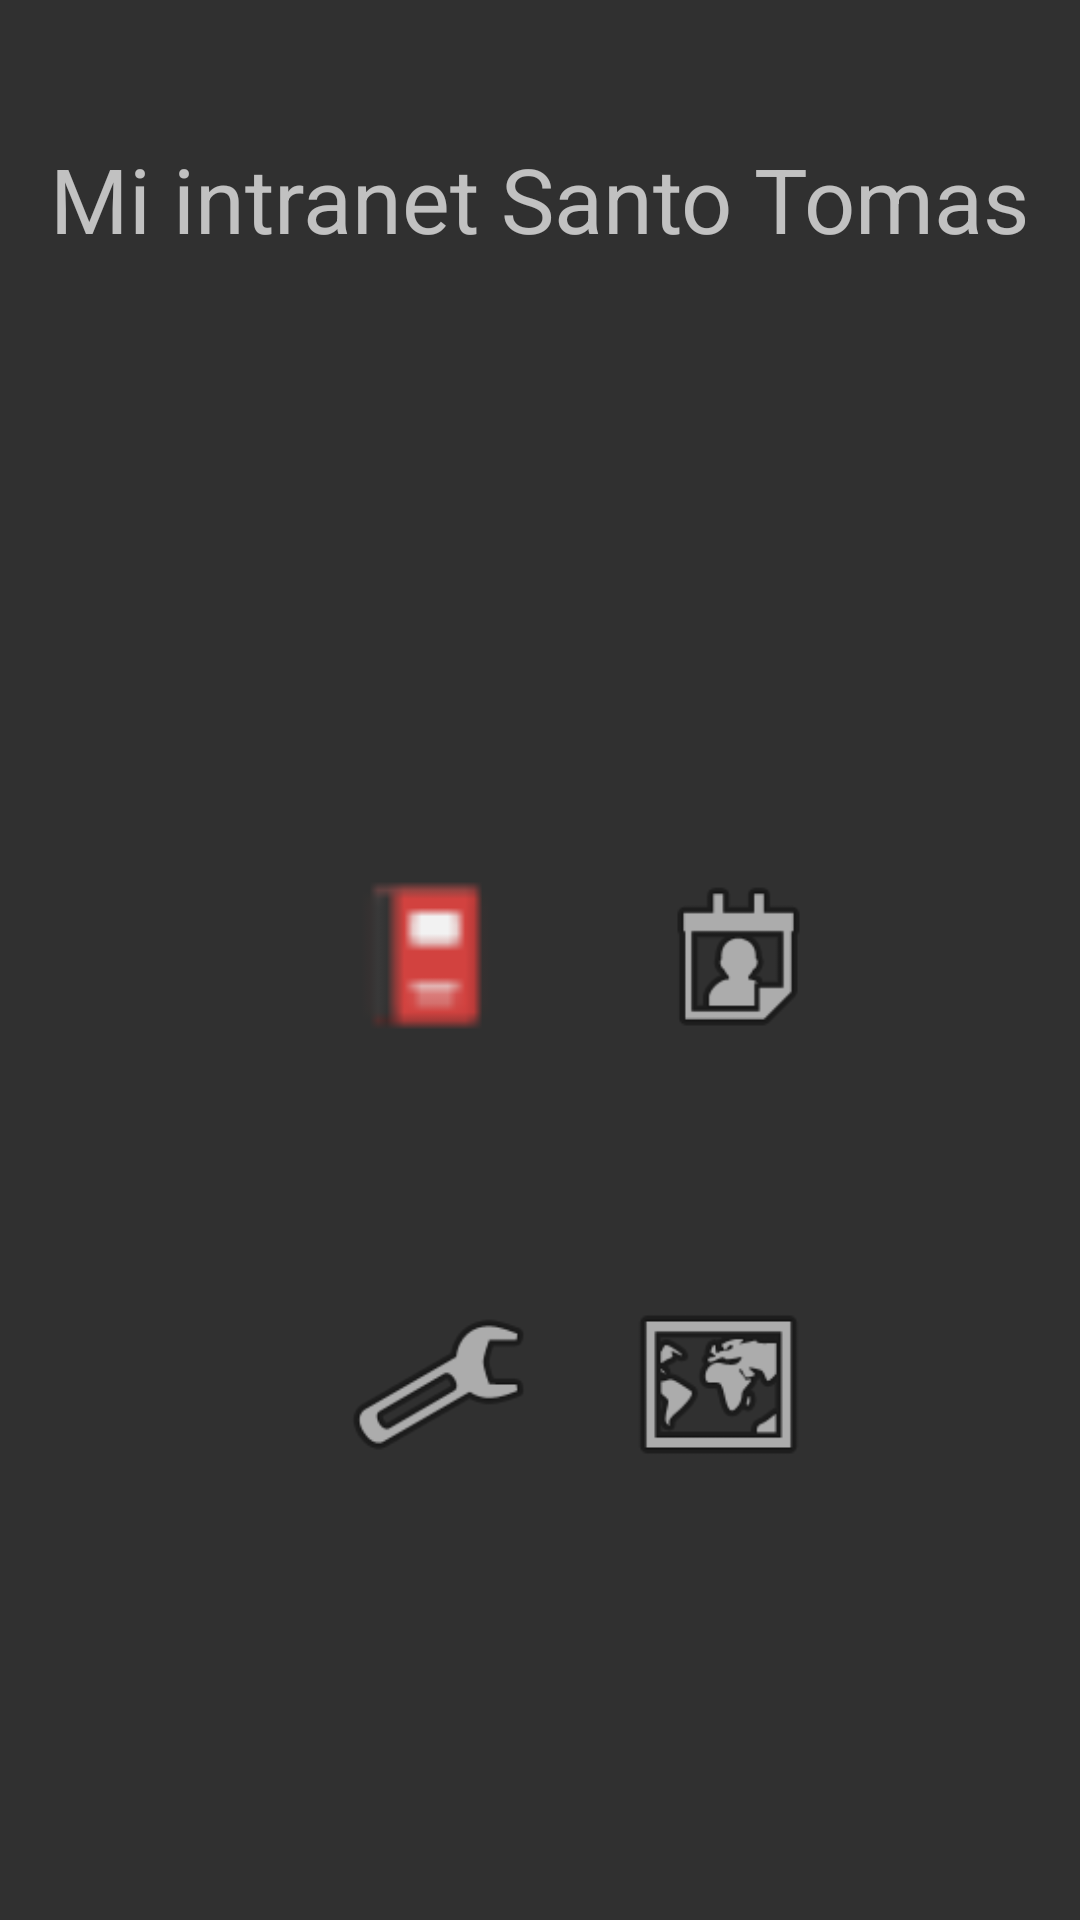

Point at icon controls on the screen. Image size 1080w x 1920h, points as (x,y).
calendar: (738,956)
mapmode: (718,1384)
notas escolares: (427,956)
preferences: (438,1384)
